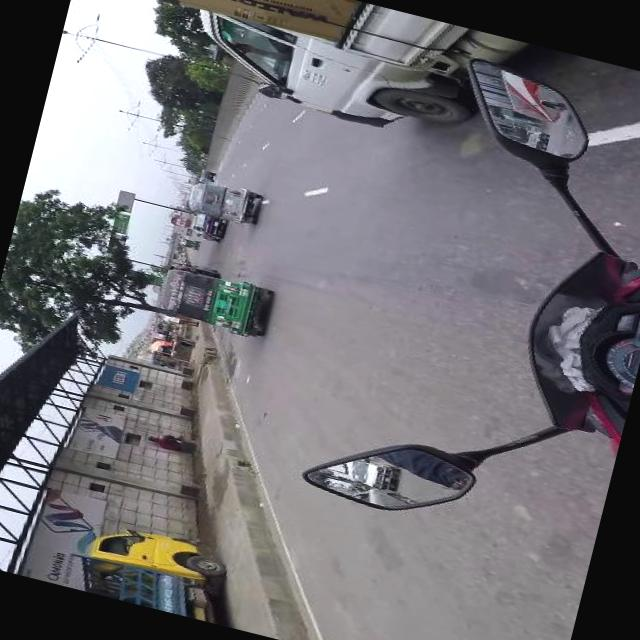bus: (166, 214, 188, 228)
car: (189, 212, 222, 242)
motorcycle: (291, 35, 640, 559), (153, 261, 273, 340), (186, 176, 261, 227), (176, 235, 200, 250)
truck: (106, 0, 519, 154), (63, 511, 227, 622), (170, 223, 190, 236)
